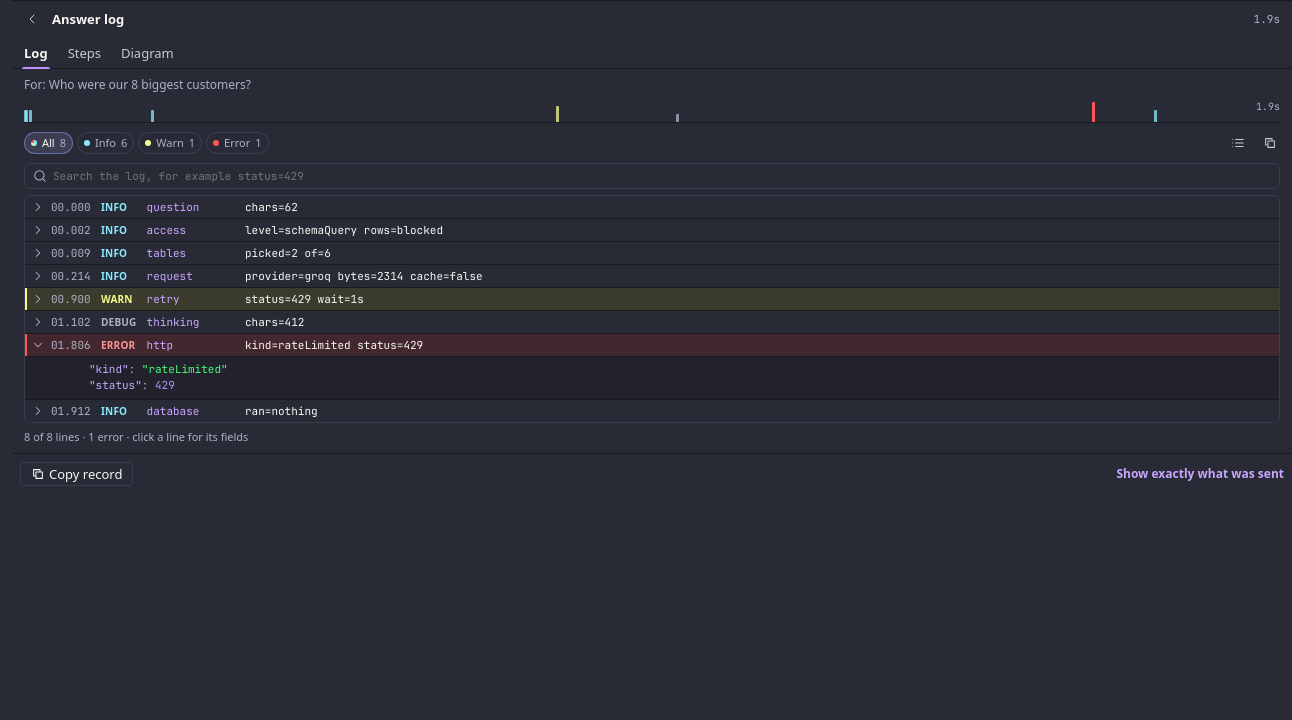
Scenario: first_error_open
The width and height of the screenshot is (1292, 720).
Expected: the number of elements with class "ljson" is 1, [25,356,1279,399]
Expected: the element with class "ljson" reads "\"kind\": \"rateLimited\" \"status\": 429", [25,356,1279,399]
Click the 4th button with class "lrow" at {"x": 257, "y": 276}, box [31,269,483,283]
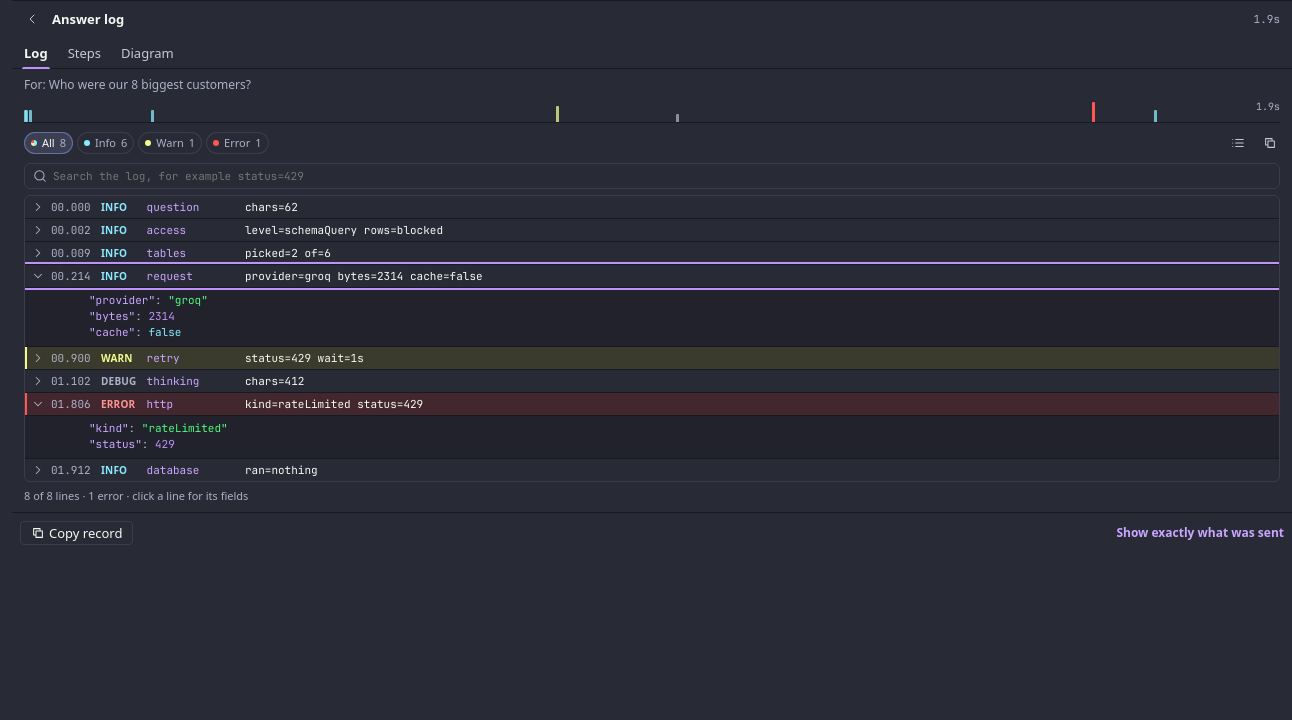
Expected: the button with class "lrow" is expanded, [31,269,483,283]
Expected: the element with class "ljson" reads "\"provider\": \"groq\" \"bytes\": 2314 \"cache\": false", [25,287,1279,346]
